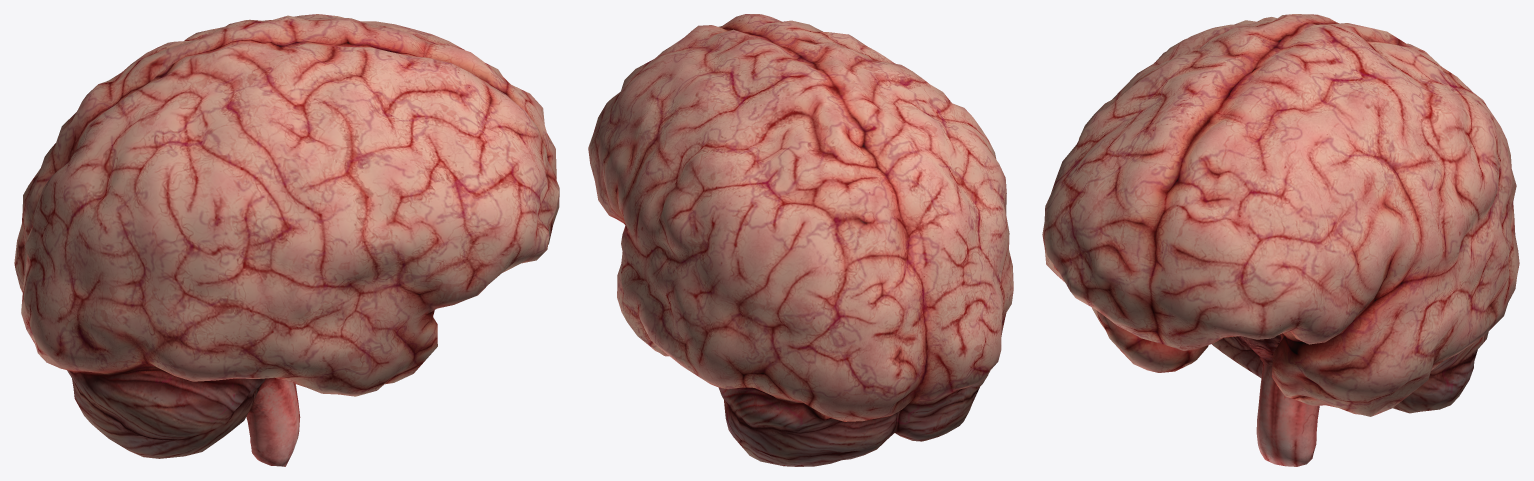
Rendered from cerebro (1).fbx.
3 views of the same model, side by side, from view 1: azimuth 30°, elevation 25°; view 2: azimuth 150°, elevation 25°; view 3: azimuth 270°, elevation 25° (orthographic). The views are drawn at different scales.
Visible parts, largest first — view 1: Human Brain.002; view 2: Human Brain.002; view 3: Human Brain.002.
Part boxes in pixels (x1=…): Human Brain.002: x1=14, y1=14, x2=559, y2=466; Human Brain.002: x1=588, y1=14, x2=1013, y2=466; Human Brain.002: x1=1042, y1=14, x2=1519, y2=466.
Bounding box in the file's own units: 252 × 219 × 220.
1 material, 1 textured.
